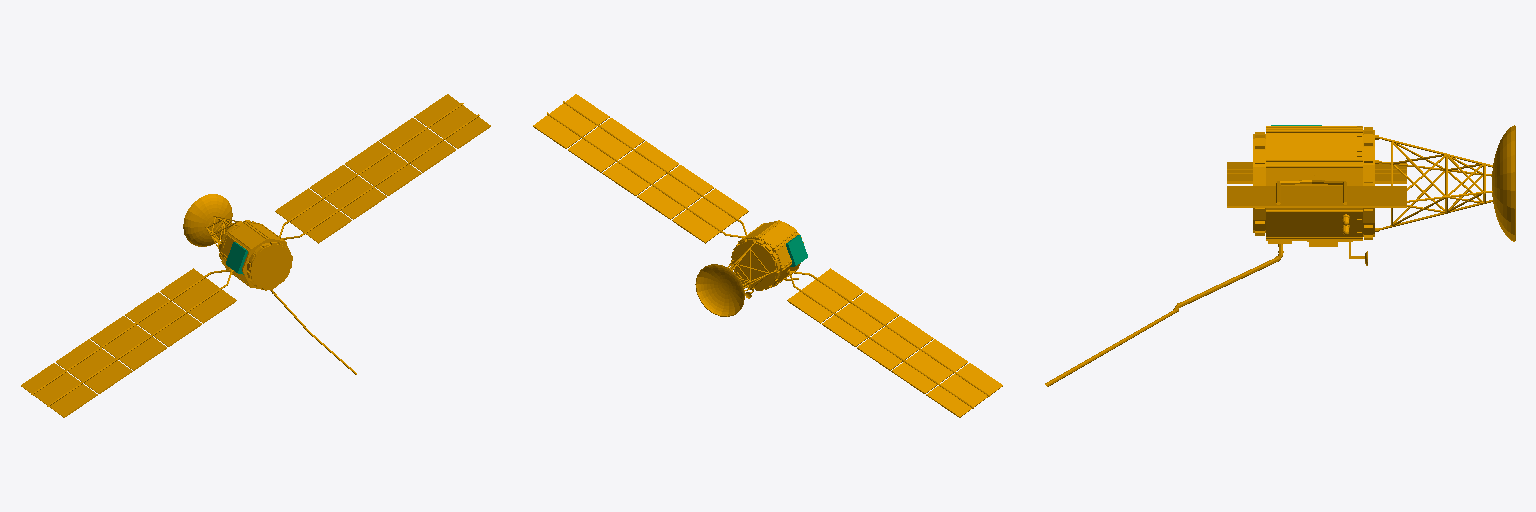
robot.urdf — satellite_12:
<?xml version='1.0' encoding='utf-8'?>
<robot name="satellite_12">
  <link name="base_link">
    <visual>
      <geometry>
        <mesh filename="satellite.stl" />
      </geometry>
    </visual>
    <collision>
      <geometry>
        <mesh filename="satellite.stl" />
      </geometry>
    </collision>
  </link>
  <link name="satellite_12_mount" />
  <joint name="satellite_mount_fixed" type="fixed">
    <parent link="base_link" />
    <child link="satellite_12_mount" />
    <origin xyz="-0.42978277927665665 -0.048447198595315544 0.12321589375317275" rpy="-1.232595164407831e-32 -1.1780967567368361 1.0555399031630314e-16" />
  </joint>
  <link name="mount_support">
    <visual>
      <geometry>
        <mesh filename="mount_support.stl" />
      </geometry>
    </visual>
    <collision>
      <geometry>
        <mesh filename="mount_support.stl" />
      </geometry>
    </collision>
  </link>
  <joint name="support_fixed" type="fixed">
    <parent link="satellite_12_mount" />
    <child link="mount_support" />
    <origin xyz="0 0 0" rpy="0 0 0" />
  </joint>
</robot>

--- Render facts (derived) ---
Views: 3 orthographic renders of the robot side by side, from view 1: azimuth 30°, elevation 25°; view 2: azimuth 150°, elevation 25°; view 3: azimuth 270°, elevation 25°.
Model satellite_12 with 3 links and 2 joints (2 fixed), rooted at base_link, posed all joints at 0.
Links seen in each view (by area): view 1: base_link; view 2: base_link; view 3: base_link.
Link boxes in pixels (left/top/right/bottom): base_link: left=21, top=94, right=490, bottom=417; base_link: left=533, top=94, right=1002, bottom=417; base_link: left=1045, top=125, right=1515, bottom=386.
Size in the robot's own frame: 8 by 3.66 by 3.38 metres.
2 mesh visuals loaded from 2 distinct referenced files (2 binary STL).
